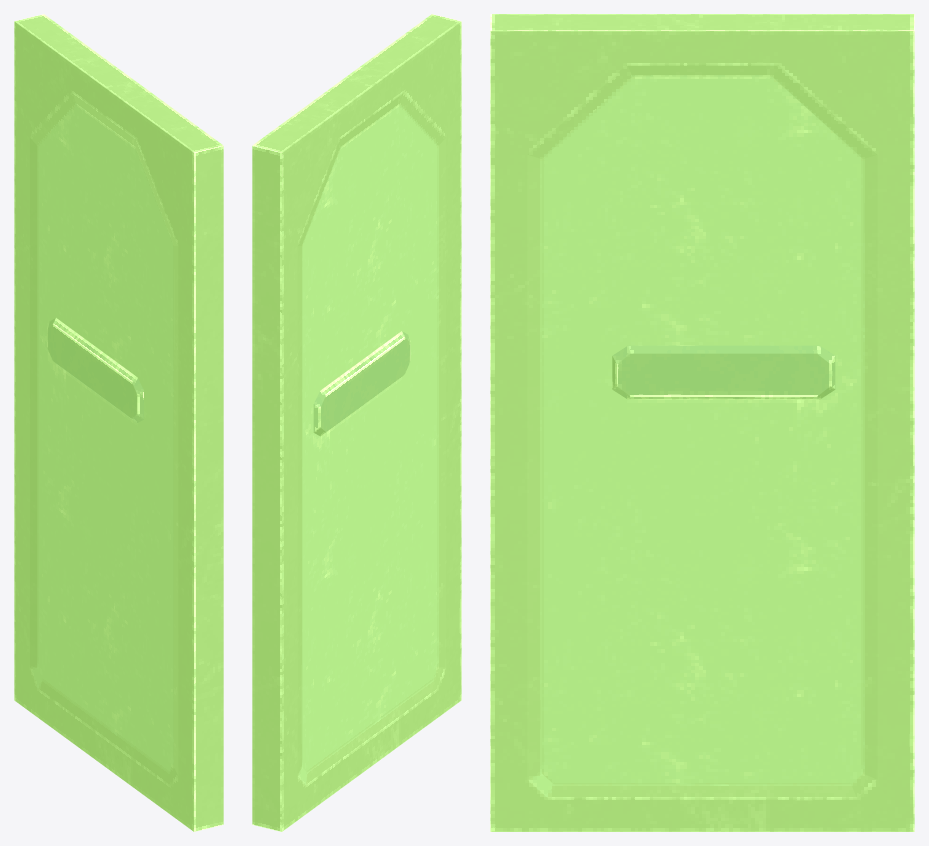
File: DoorOpen.glb
The picture shows the model from 3 angles, left to right: view 1: azimuth 30°, elevation 25°; view 2: azimuth 150°, elevation 25°; view 3: azimuth 270°, elevation 25°; orthographic projection. The views are drawn at different scales.
Visible parts, largest first — view 1: Door Open-col; view 2: Door Open-col; view 3: Door Open-col.
Boxes of the visible parts, box(x1,y1,x2,y2) form: Door Open-col: box(14, 14, 223, 831); Door Open-col: box(252, 14, 461, 831); Door Open-col: box(490, 14, 914, 831).
Bounding box in the file's own units: 0.106 × 1.96 × 0.9418.
Materials: 1 (1 with a texture image).
